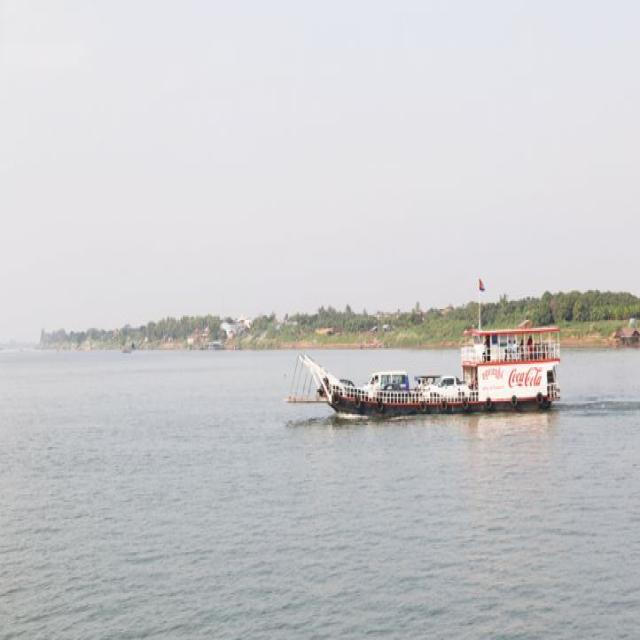cargoship: (279, 298, 567, 420)
